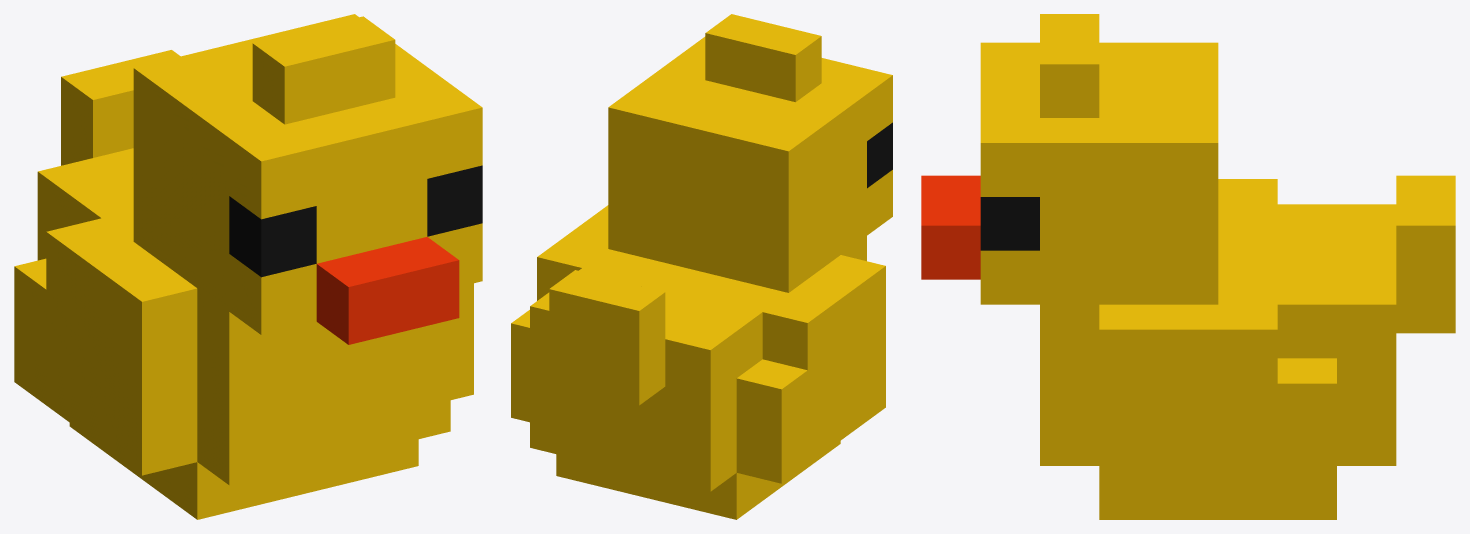
The model's file is Voxel Universe Objects-18.obj.
The picture shows the model from 3 angles, left to right: view 1: azimuth 30°, elevation 25°; view 2: azimuth 150°, elevation 25°; view 3: azimuth 270°, elevation 25°; orthographic projection. The views are drawn at different scales.
Bounding box in the file's own units: 0.6 × 0.8 × 0.9.
Materials: 1 (1 with a texture image).
